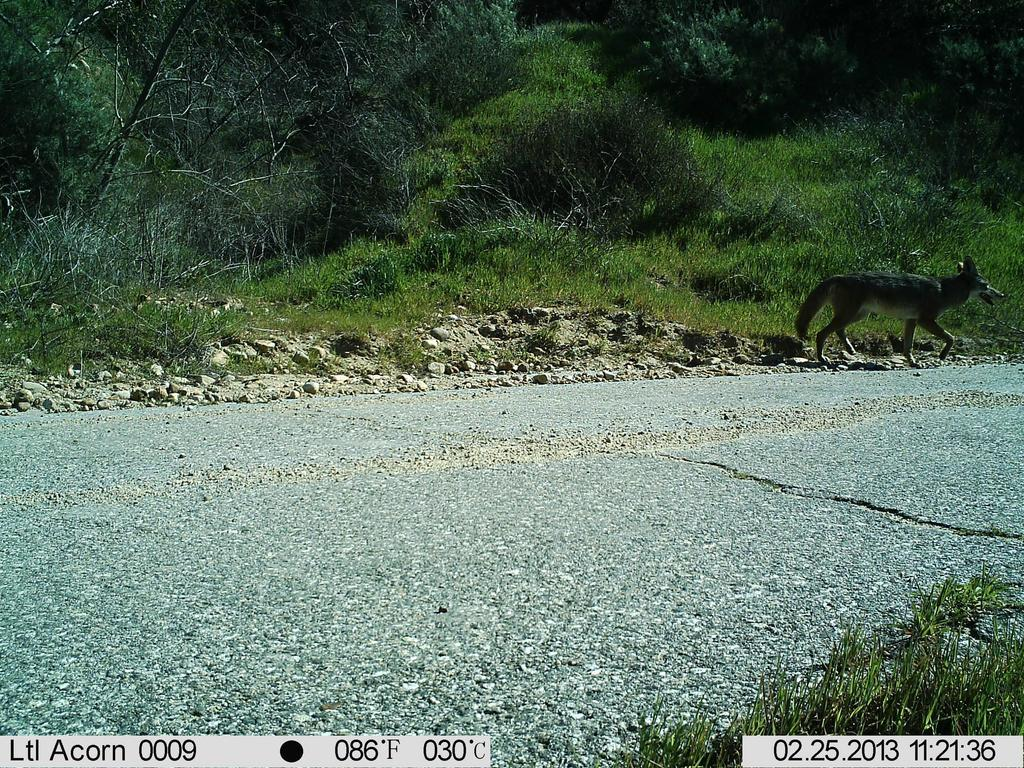coyote: (786, 250, 1008, 373)
